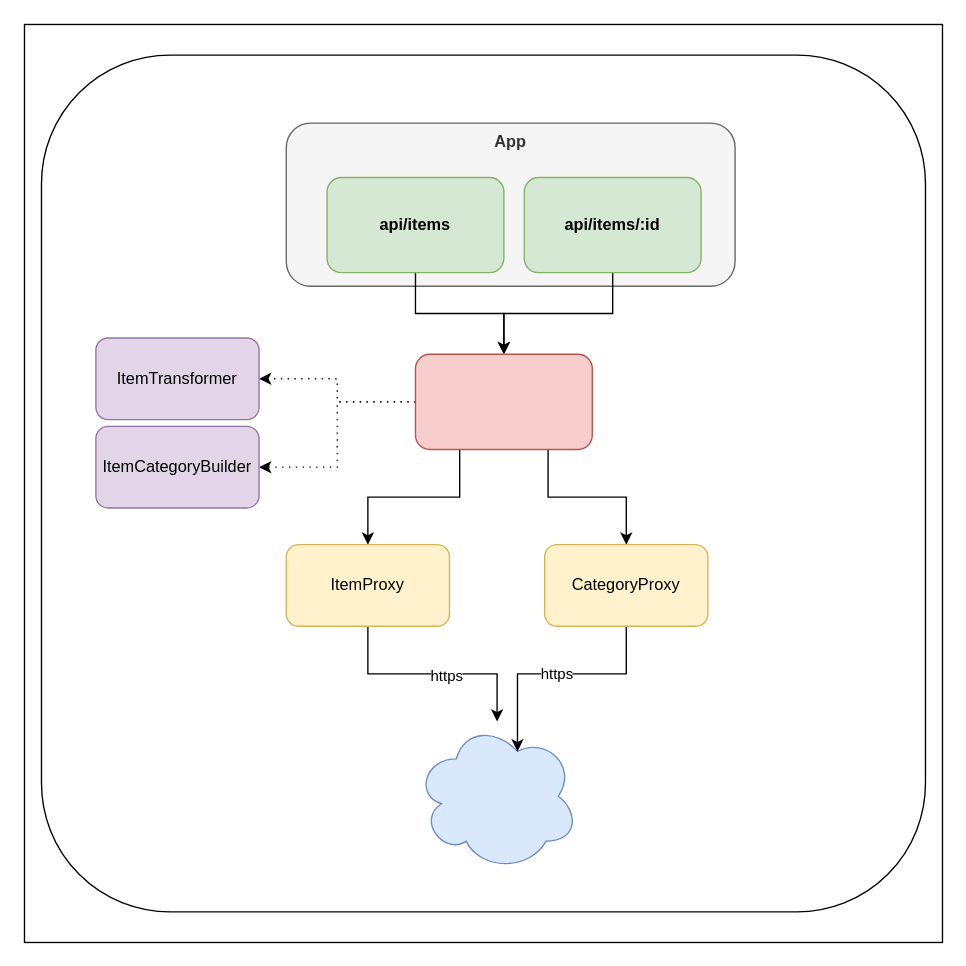
This 966x966 diagram has some shape labels left out. The centre of each missing label's shape, as x and y in pixels:
"ItemService" goes at (x=503, y=401).
"ML API" goes at (x=496, y=795).
